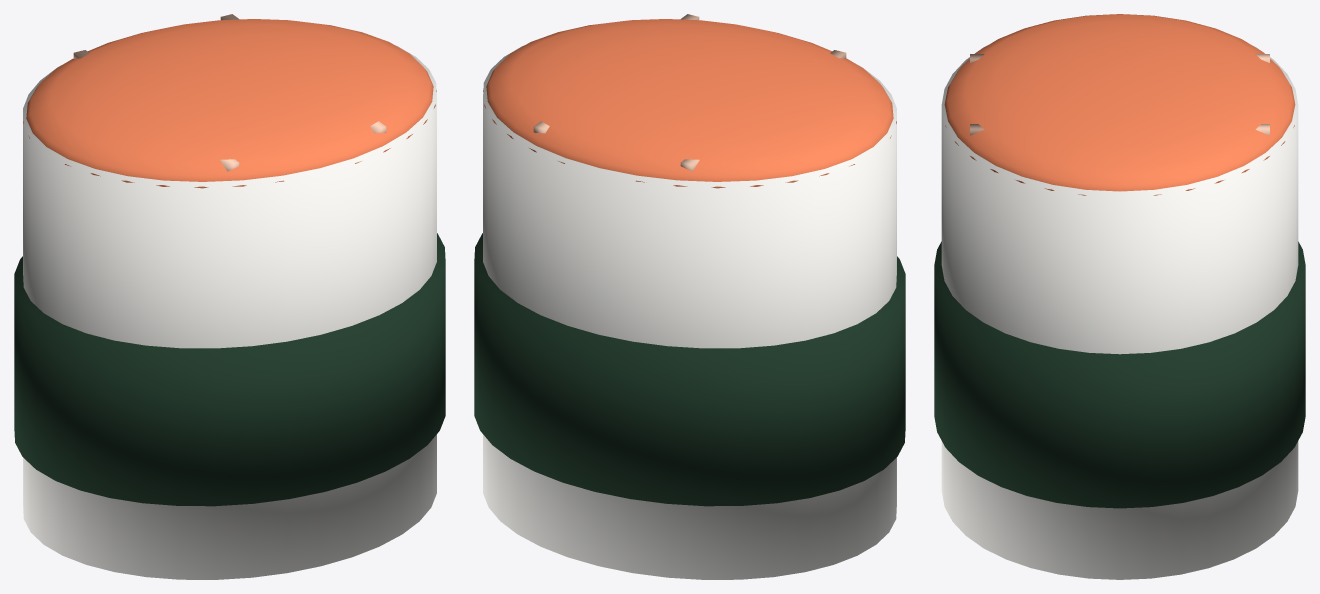
The model's file is tb_mat_sushi.glb.
3 renders of one model, left to right at view 1: azimuth 30°, elevation 25°; view 2: azimuth 150°, elevation 25°; view 3: azimuth 270°, elevation 25°, orthographic. The views are drawn at different scales.
Parts seen in each view (by area): view 1: matkropp; view 2: matkropp; view 3: matkropp.
Boxes of the visible parts, <box> form: matkropp: <box>14,14,445,579</box>; matkropp: <box>474,14,905,579</box>; matkropp: <box>934,14,1305,579</box>.
Size of the model in its own units: 0.792 by 0.8354 by 0.6732.
